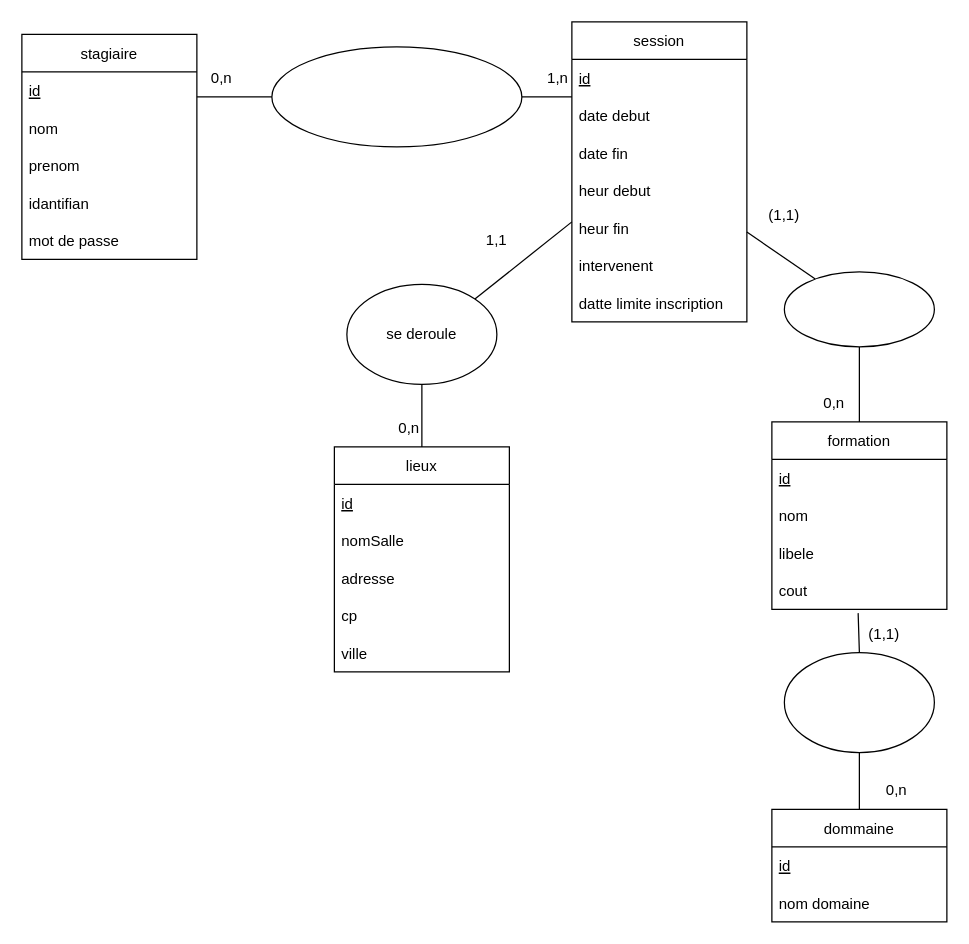
Some shapes in this 969 by 944 pixel diagram are drawn without their labels. Here are the shapes that lost their labels. From the top down, the centre of each, then its label:
pixel 396 96: participe
pixel 858 309: forme a
pixel 858 701: apartien a
